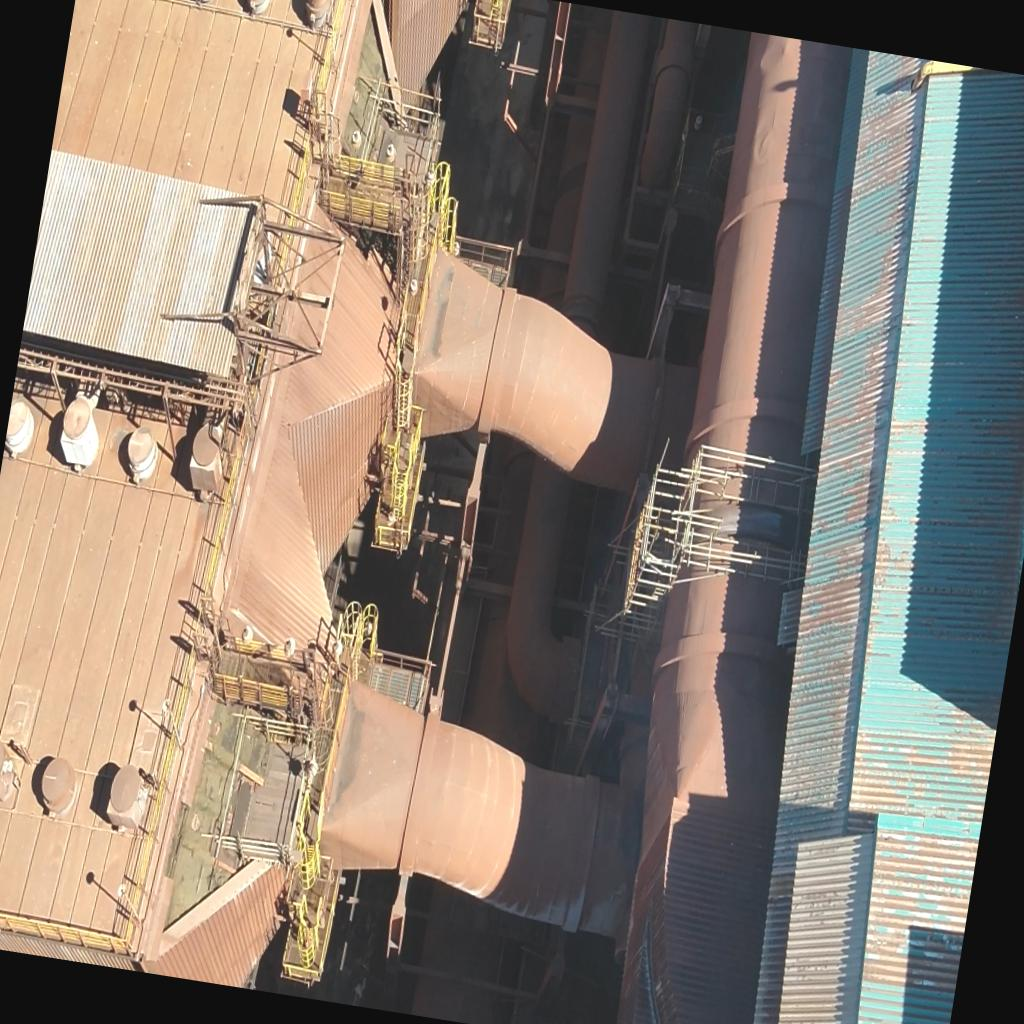Failures: (175, 670, 293, 927), (334, 26, 420, 222)
